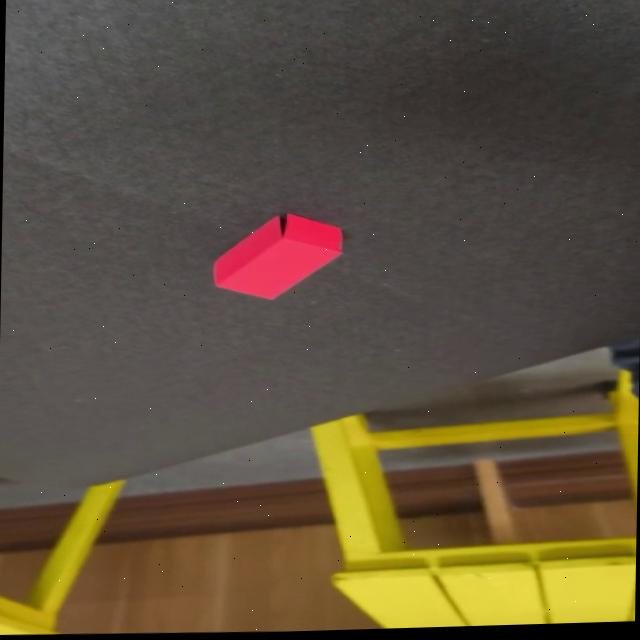red block: (212, 210, 346, 304)
